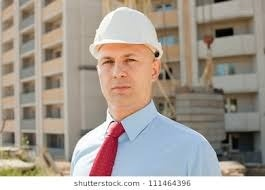helmet: (90, 7, 162, 63)
person with partial safety: (74, 6, 212, 170)
